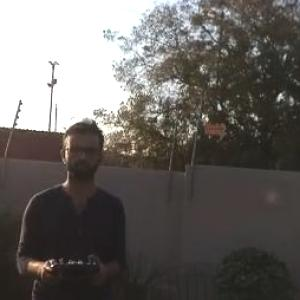follow: (8, 110, 132, 299)
